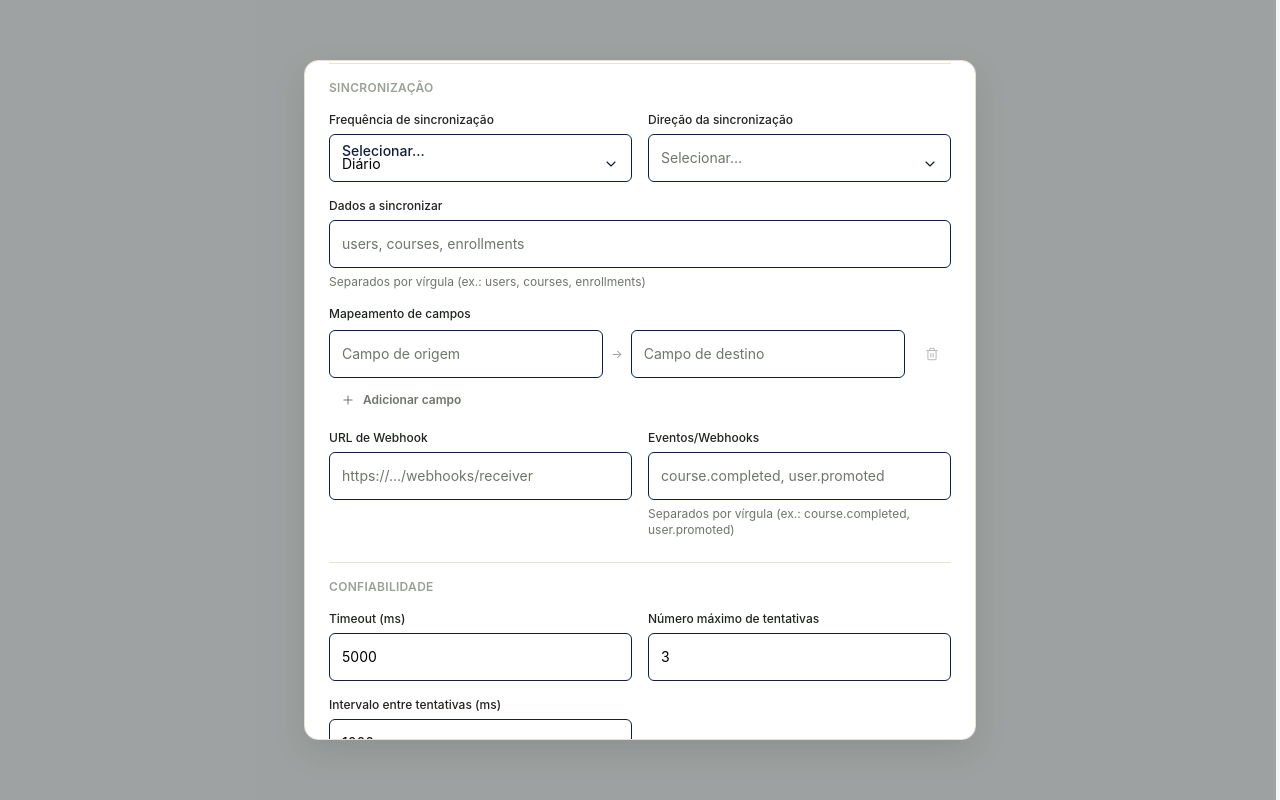
NewIntegrationModal (scalability) › adicionar e remover linhas de mapeamento
(page scrolled)
expect the number of fields labelled "Campo de origem" is 1: met, box [329,330,603,378]
Click the button "Adicionar campo" at {"x": 401, "y": 400}, box [329,386,473,414]
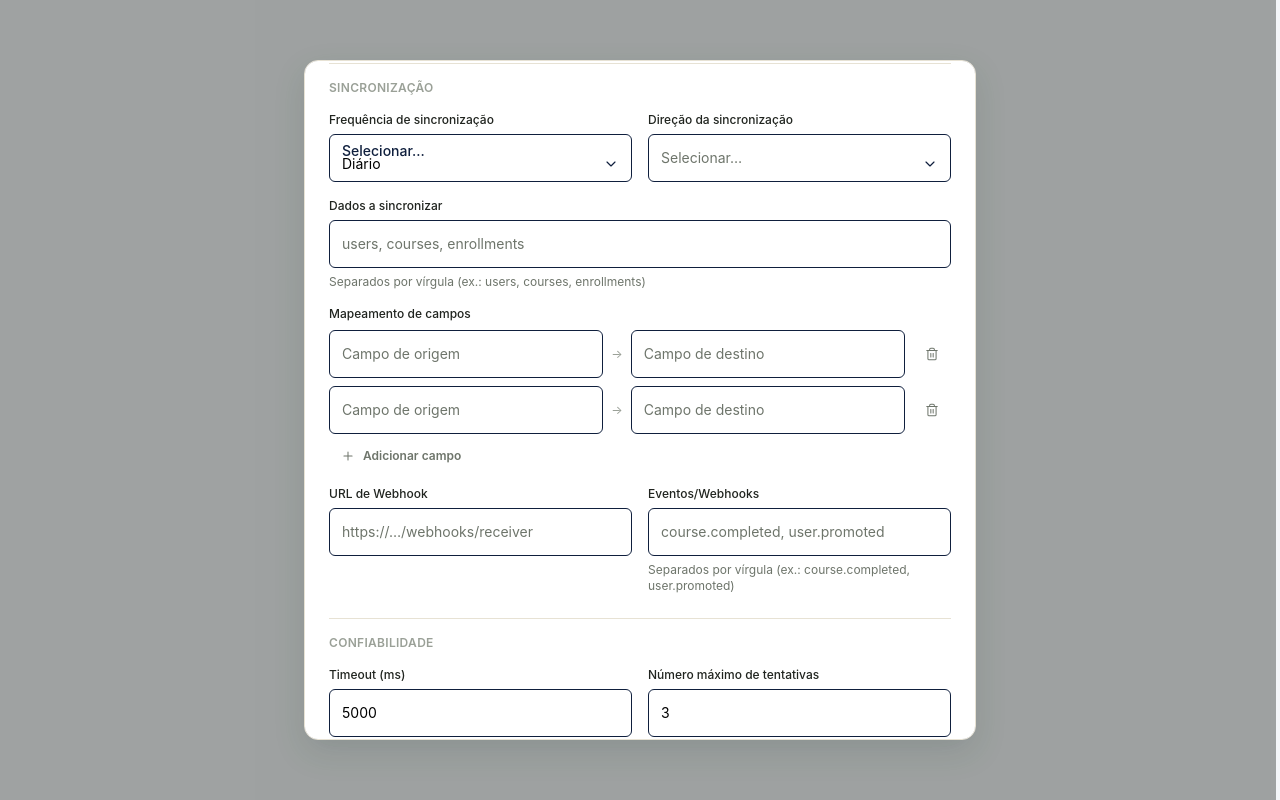
expect the number of fields labelled "Campo de origem" is 2: met
Type "b" into the 2nd field labelled "Campo de origem" at {"x": 466, "y": 410}, box [329,386,603,434]
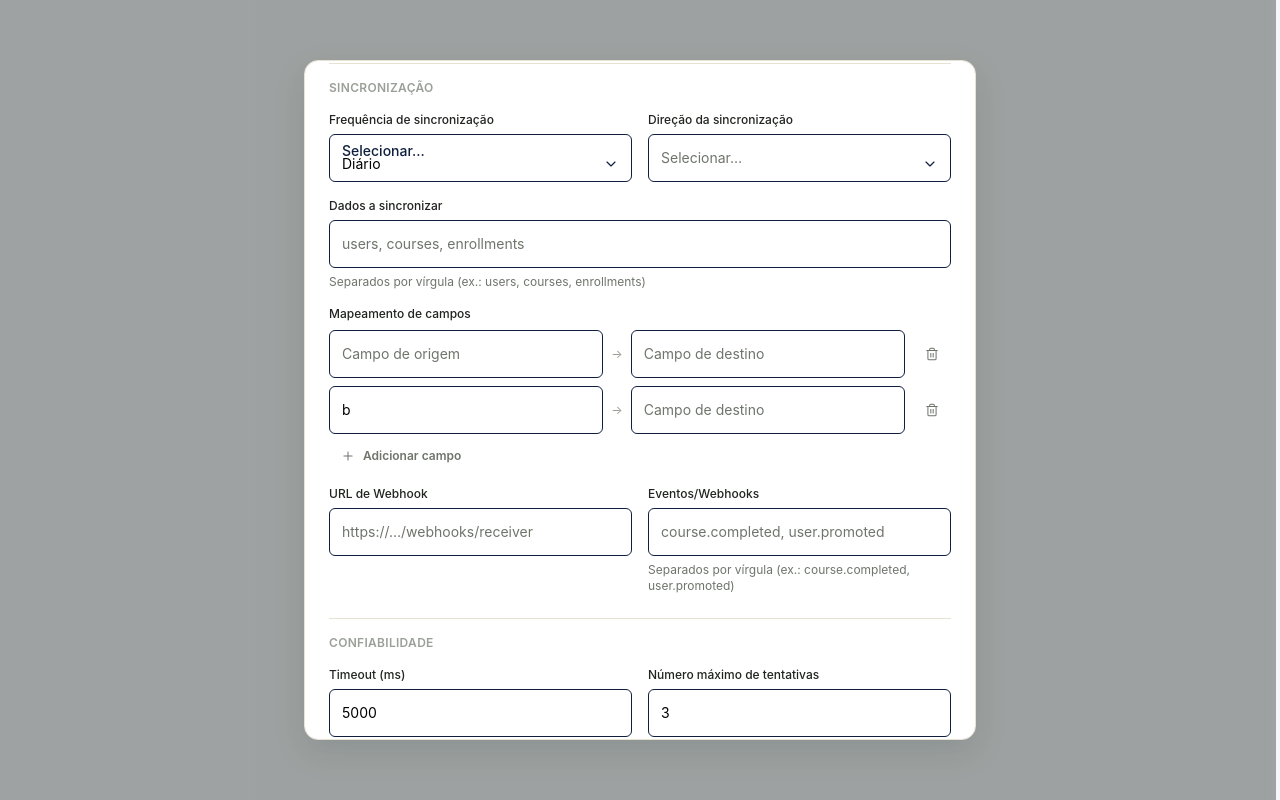
Click the 1st button named "Remover linha" at {"x": 932, "y": 354}, box [913,341,951,367]
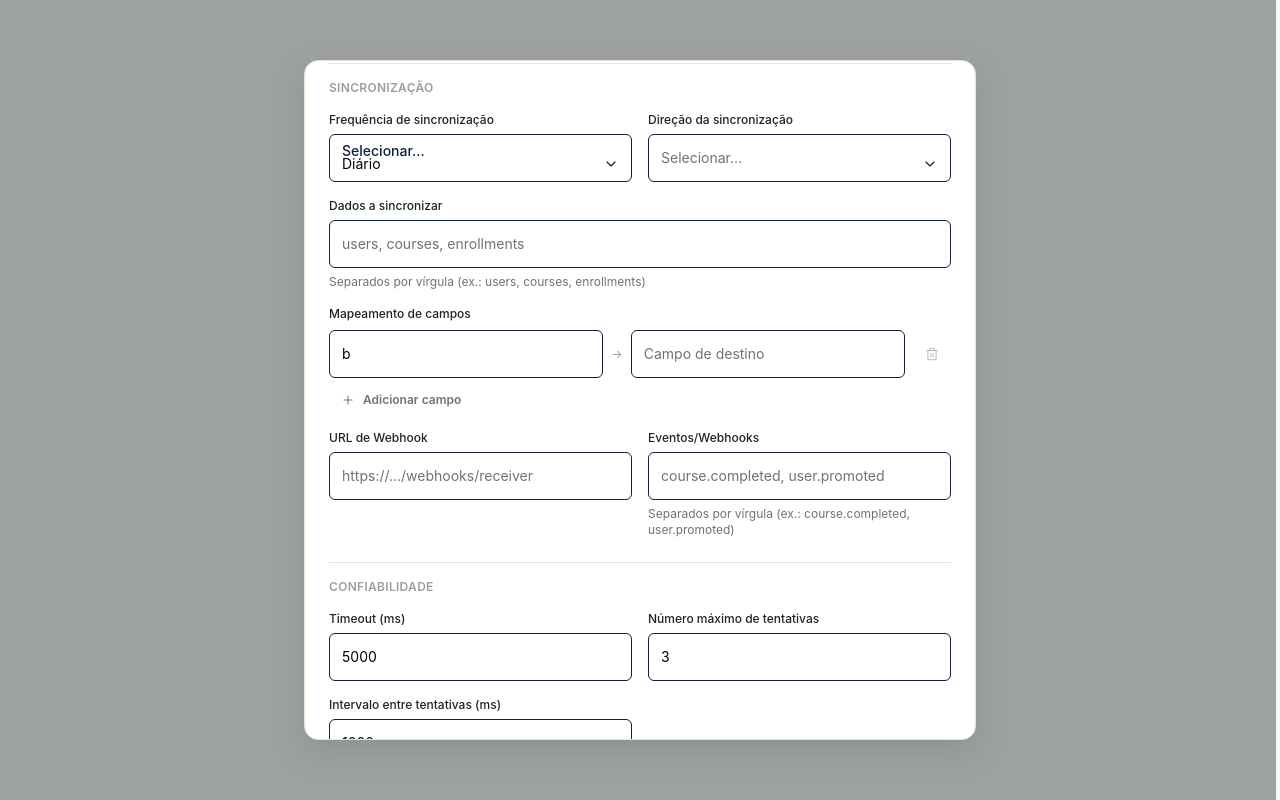
expect the number of fields named "Campo de origem" is 1: met, box [329,330,603,378]
expect the field named "Campo de origem" holds "b": met, box [329,330,603,378]
